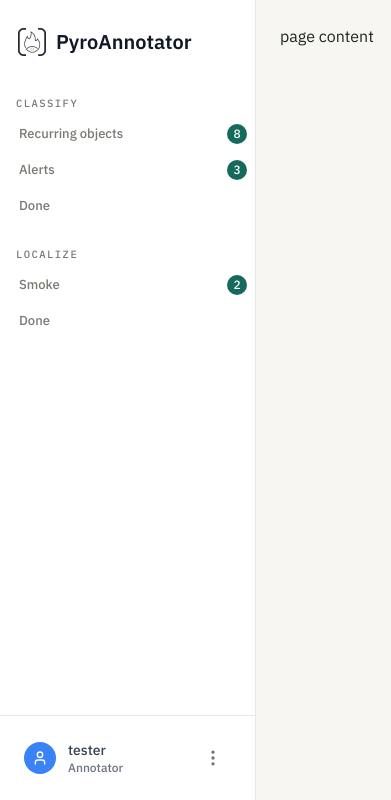
it: AppLayout sidebar navigation › opens the user menu only via the menu button, not the user row
Expected: the menu item "sign out" is not shown
Click the button named "open user menu": click(213, 758) [195, 740, 231, 776]
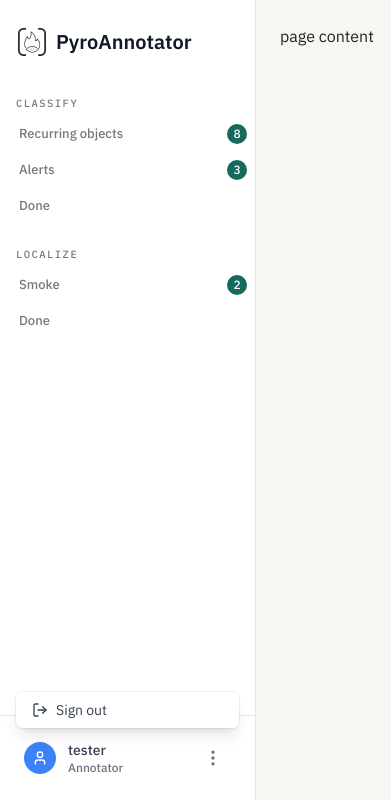
Expected: the menu item "Sign out" is shown, [16, 692, 239, 728]
